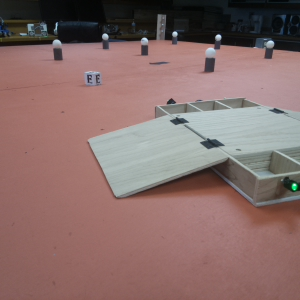obstacle: (205, 50, 218, 73), (52, 41, 65, 63), (264, 41, 276, 59), (140, 37, 149, 57), (102, 34, 110, 50), (172, 32, 179, 46), (215, 35, 222, 49)
side: (218, 146, 300, 208), (150, 99, 263, 117)
slope: (85, 116, 229, 201)
